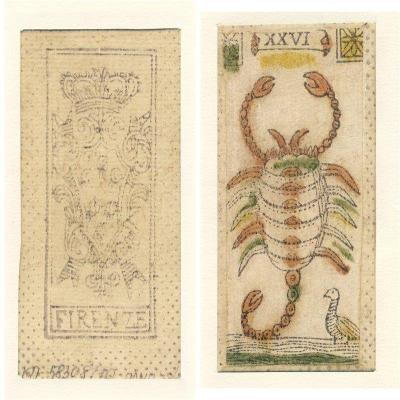graphics: (17, 29, 182, 381), (217, 22, 376, 374)
